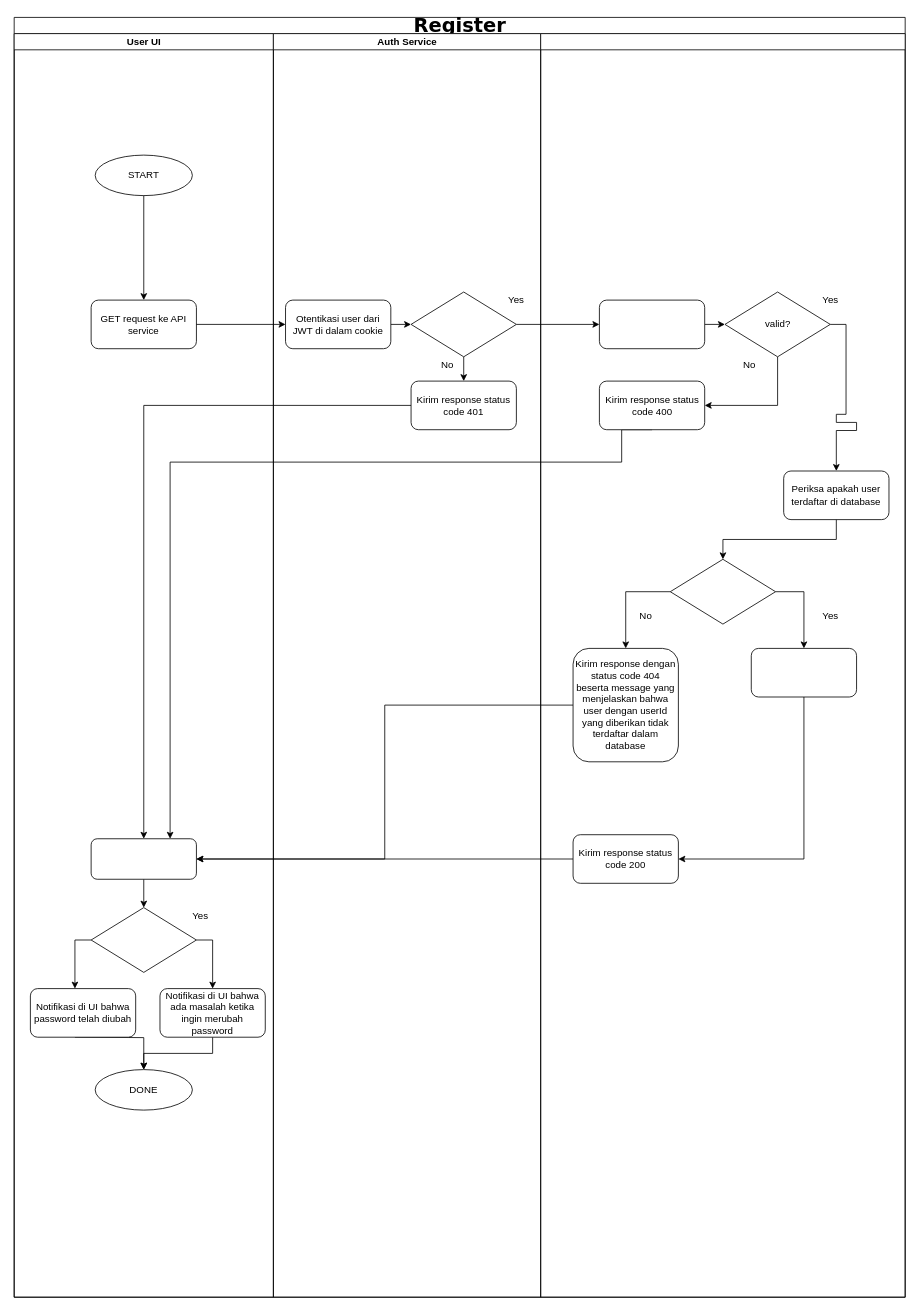
Image size: 919x1311. Some labels were removed from this diagram. Each missing label, with the box of its shape:
Ada?: (669, 558, 776, 624)
API Service: (540, 33, 905, 1297)
Menerima response dari server: (90, 838, 196, 879)
status code >= 400?: (90, 907, 196, 972)
Update property 'isNewUser' dalam kolom 'onboarding' menjadi false: (750, 648, 857, 697)
validasi request body dan request parameters: (599, 299, 705, 349)
verified?: (410, 291, 516, 357)
